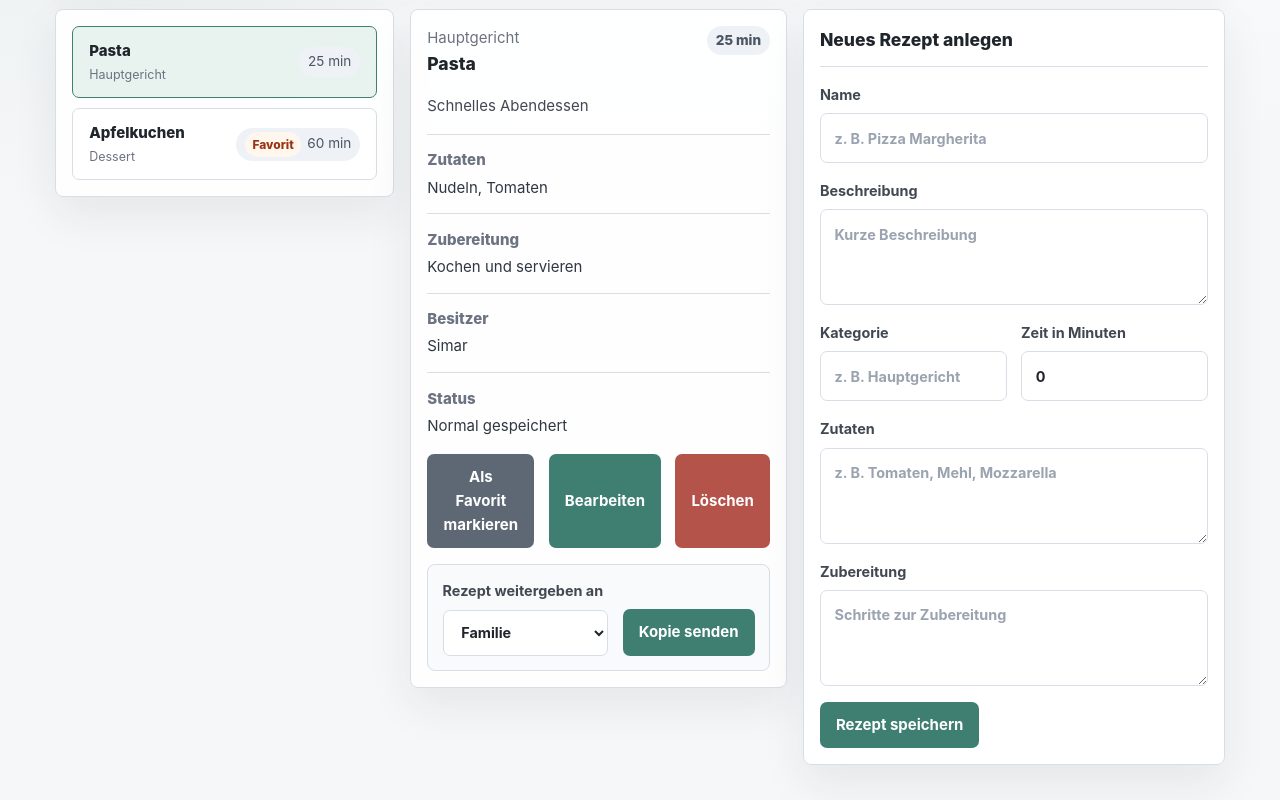
RecipeList › starts editing a selected recipe
(page scrolled)
Click the button "Bearbeiten": coordinates (605, 501) [549,454,661,548]
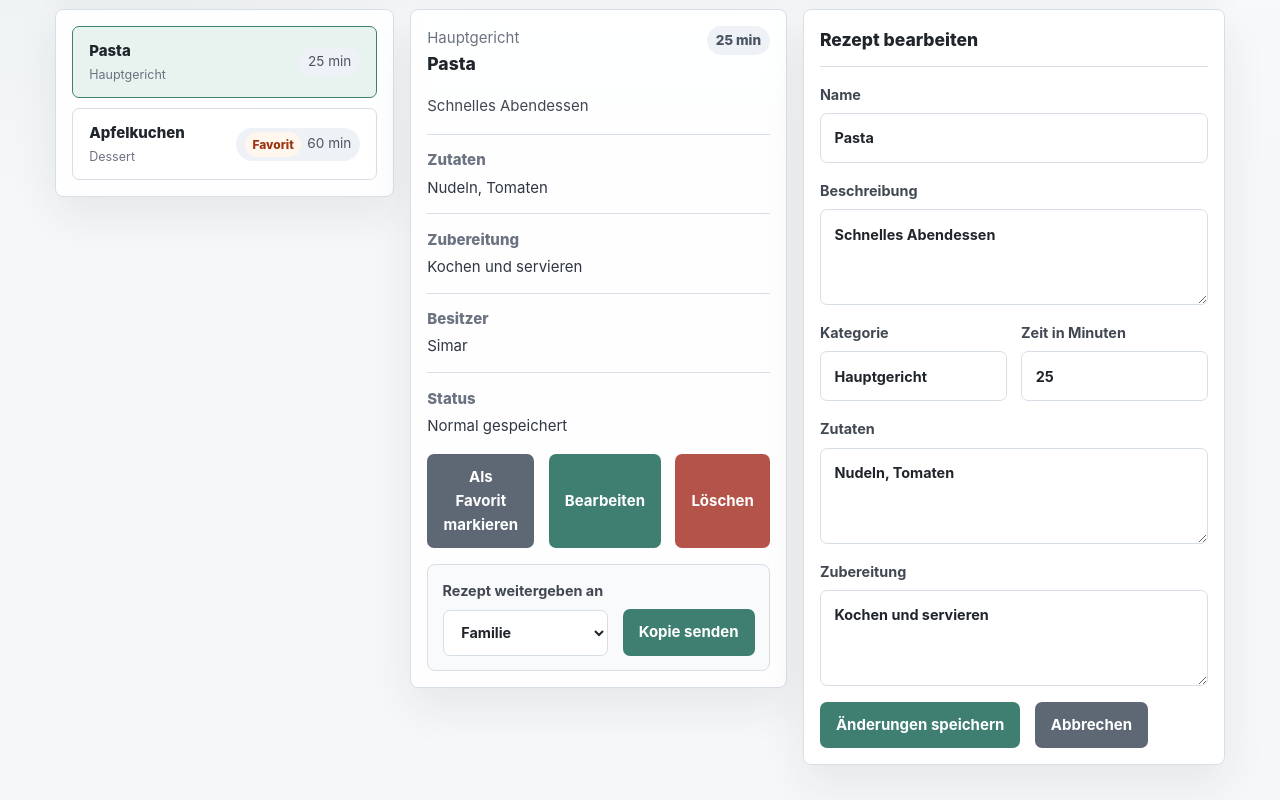
Check: the heading "Rezept bearbeiten" is shown, box [820,26,1208,67]
Check: the field with placeholder "z. B. Pizza Margherita" holds "Pasta", box [820,113,1208,163]
